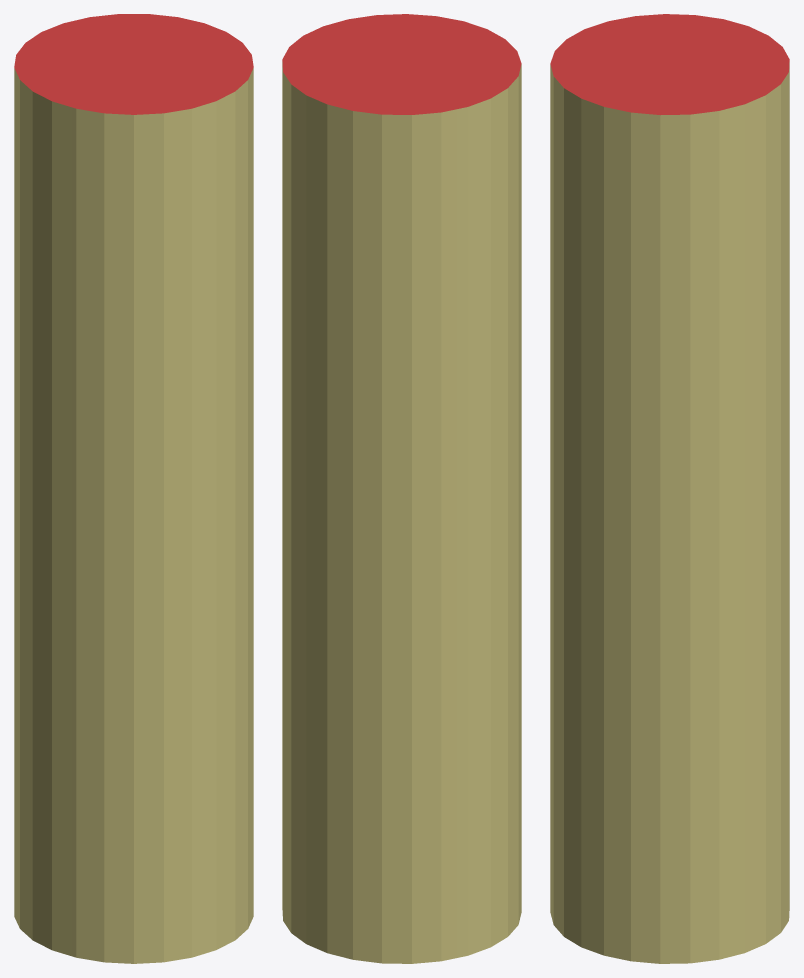
3 views of the same model, side by side, from view 1: azimuth 30°, elevation 25°; view 2: azimuth 150°, elevation 25°; view 3: azimuth 270°, elevation 25° (orthographic).
Bounding box in the file's own units: 3.41 × 3.41 × 13.36.
